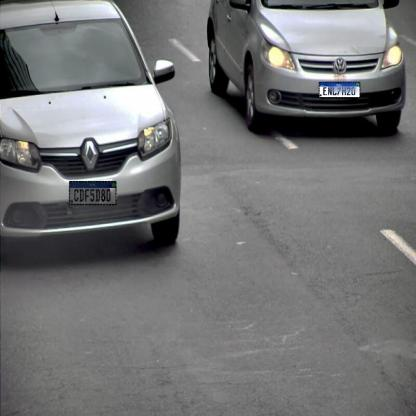PlacaM: (69, 181, 117, 205), (319, 82, 360, 98)
